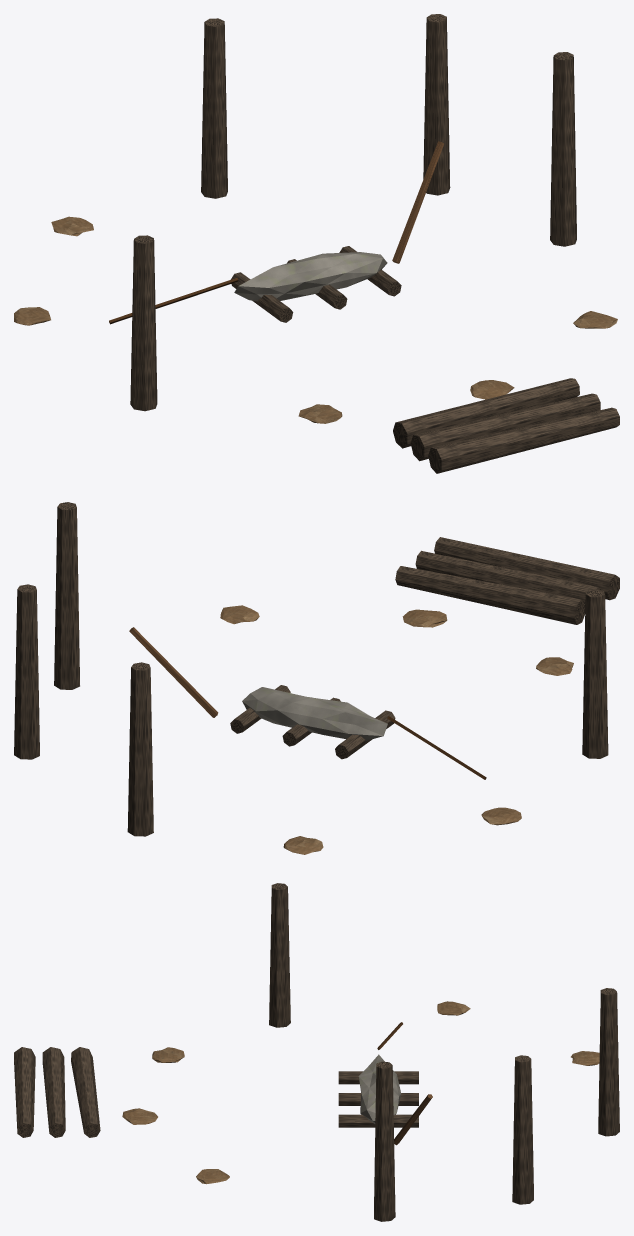
Rendered from cantiere_luogo_sacro.glb.
The picture shows the model from 3 angles, top to bottom: view 1: azimuth 30°, elevation 25°; view 2: azimuth 150°, elevation 25°; view 3: azimuth 270°, elevation 25°; orthographic projection. The views are drawn at different scales.
Parts seen in each view (by area): view 1: cantiere_luogo_sacro; view 2: cantiere_luogo_sacro; view 3: cantiere_luogo_sacro.
Boxes of the visible parts, x1,y1,x2,y2 form: cantiere_luogo_sacro: [14, 14, 619, 473]; cantiere_luogo_sacro: [14, 502, 619, 854]; cantiere_luogo_sacro: [14, 883, 619, 1221].
Size of the model in its own units: 8.65 by 2.93 by 10.6.
Materials: 5 (5 with a texture image).
